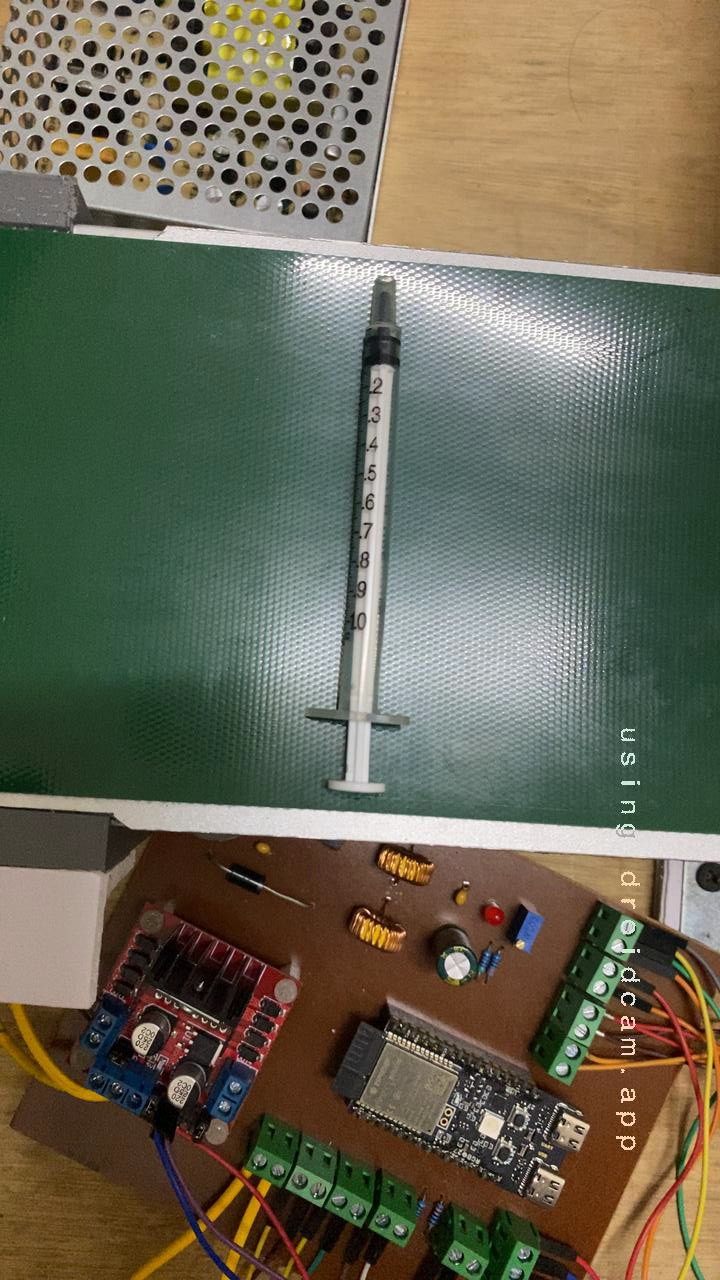syringe: (235, 285, 491, 814)
